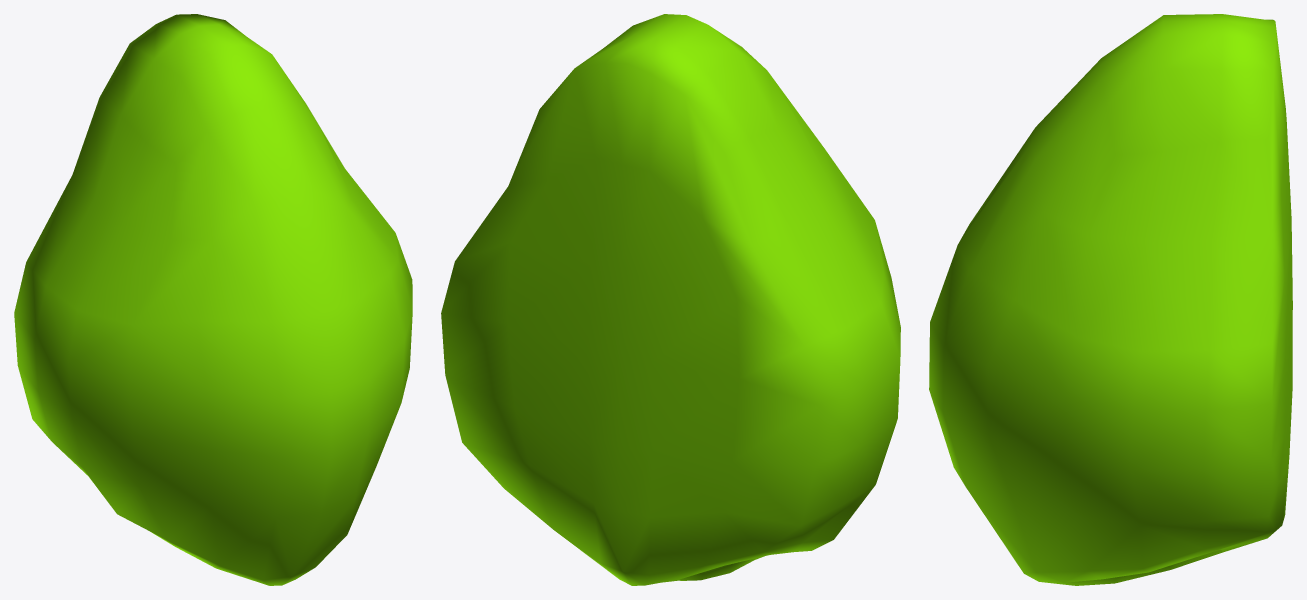
Rendered from humanlike nose.fbx.
The picture shows the model from 3 angles, left to right: view 1: azimuth 30°, elevation 25°; view 2: azimuth 150°, elevation 25°; view 3: azimuth 270°, elevation 25°; orthographic projection. The views are drawn at different scales.
Visible parts, largest first — view 1: pPlane3; view 2: pPlane3; view 3: pPlane3.
Boxes of the visible parts, x1,y1,x2,y2 form: pPlane3: [14, 14, 412, 585]; pPlane3: [441, 14, 900, 585]; pPlane3: [929, 14, 1292, 585].
Size of the model in its own units: 120 by 166 by 98.01.
